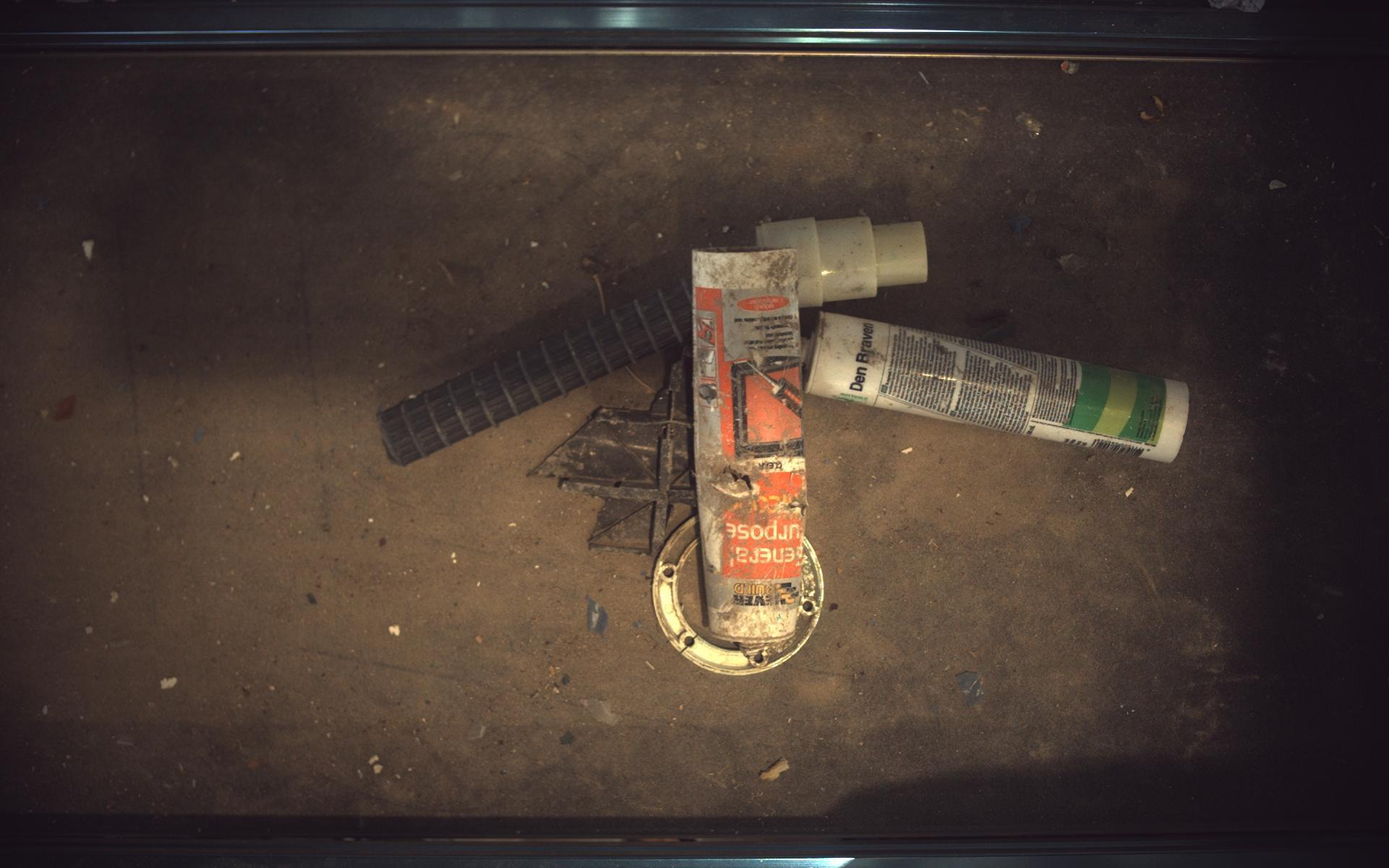plastic: (806, 312, 1192, 462), (378, 281, 692, 465), (694, 248, 808, 646), (694, 250, 808, 647), (529, 346, 697, 556), (653, 518, 825, 677), (757, 216, 930, 307)
